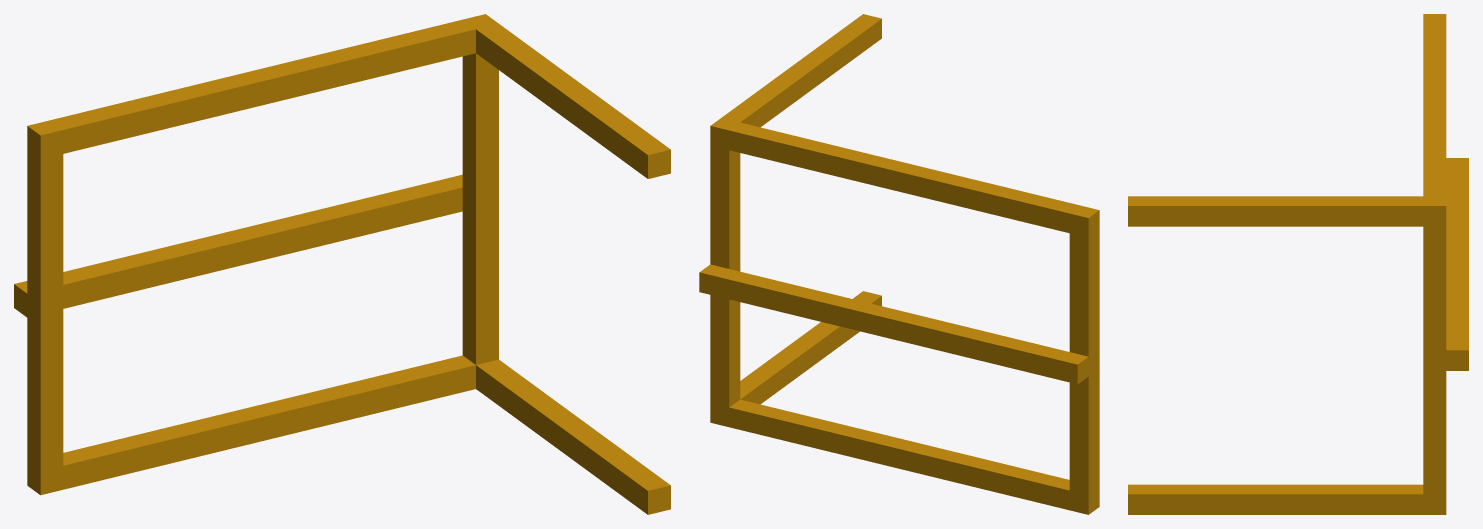
File: skeleton.obj
The picture shows the model from 3 angles, left to right: view 1: azimuth 30°, elevation 25°; view 2: azimuth 150°, elevation 25°; view 3: azimuth 270°, elevation 25°; orthographic projection. The views are drawn at different scales.
Parts seen in each view (by area): view 1: 본체1; view 2: 본체1; view 3: 본체1.
Part boxes in pixels (<box>): 본체1: <box>14,14,670,514</box>; 본체1: <box>699,14,1099,514</box>; 본체1: <box>1128,14,1468,514</box>.
Size of the model in its own units: 0.4 by 0.3 by 0.3.
